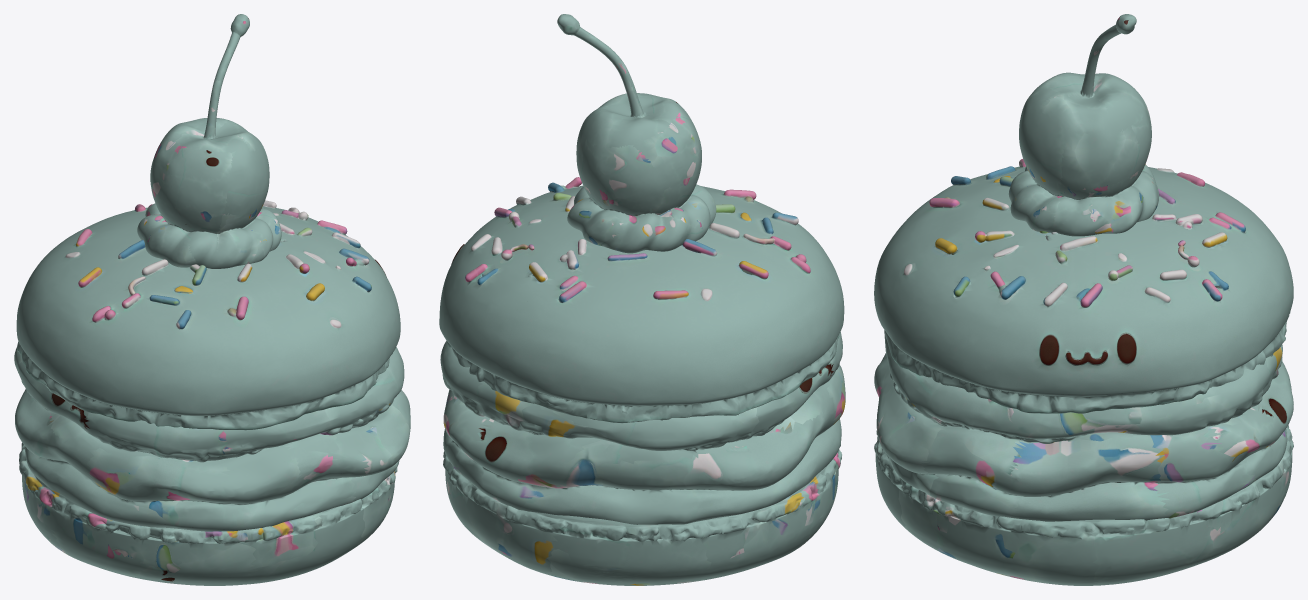
The model's file is Macaron.fbx.
The picture shows the model from 3 angles, left to right: view 1: azimuth 30°, elevation 25°; view 2: azimuth 150°, elevation 25°; view 3: azimuth 270°, elevation 25°; orthographic projection. The views are drawn at different scales.
Parts seen in each view (by area): view 1: macaron_surface, macaron_middle, macaron_bottom, macaron_decoration; view 2: macaron_surface, macaron_middle, macaron_bottom, macaron_decoration; view 3: macaron_surface, macaron_middle, macaron_bottom, macaron_decoration.
Boxes of the visible parts, x1,y1,x2,y2 form: macaron_surface: [16, 200, 400, 430]; macaron_middle: [14, 347, 410, 531]; macaron_bottom: [19, 443, 397, 585]; macaron_decoration: [137, 14, 281, 268]; macaron_surface: [439, 177, 844, 423]; macaron_middle: [440, 332, 845, 524]; macaron_bottom: [443, 443, 841, 585]; macaron_decoration: [557, 14, 716, 253]; macaron_surface: [874, 159, 1293, 413]; macaron_middle: [874, 330, 1293, 521]; macaron_bottom: [874, 424, 1293, 585]; macaron_decoration: [1008, 14, 1159, 236].
Bounding box in the file's own units: 97.85 × 139 × 98.04.
